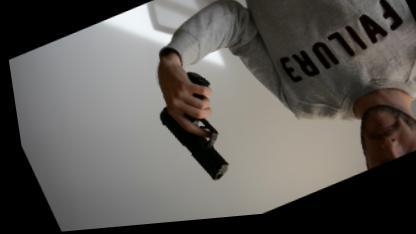pistol: (140, 66, 245, 194)
